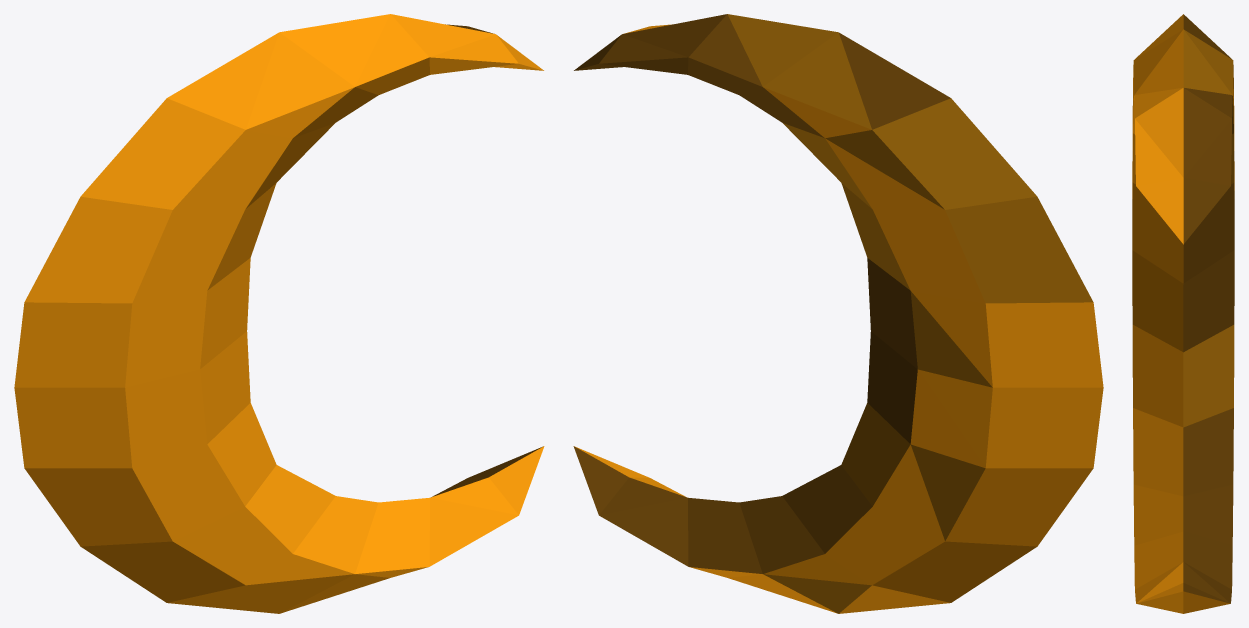
The model's file is cmoon.FBX.
3 views of the same model, side by side, from view 1: azimuth 30°, elevation 25°; view 2: azimuth 150°, elevation 25°; view 3: azimuth 270°, elevation 25° (orthographic). The views are drawn at different scales.
Parts seen in each view (by area): view 1: Box004; view 2: Box004; view 3: Box004.
Part boxes in pixels (bbox=[...]): Box004: bbox=[14, 14, 544, 613]; Box004: bbox=[573, 14, 1103, 613]; Box004: bbox=[1132, 14, 1234, 613].
Bounding box in the file's own units: 371 × 66.94 × 388.
